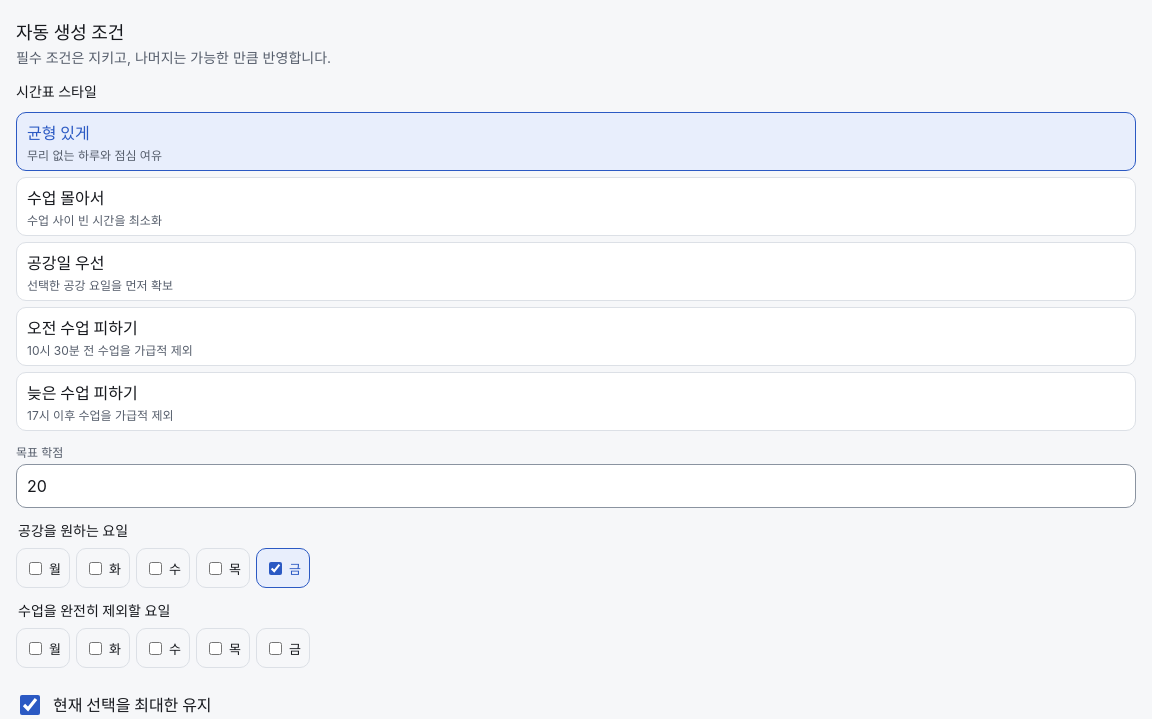
Test case: student-language preference presets › applies understandable presets without overwriting credits or preferred free days
Click the button "오전 수업 피하기 10시 30분 전 수업을 가급적 제외".
click(82, 328)  # box top-left (16, 307), bottom-right (1136, 366)
(page scrolled)
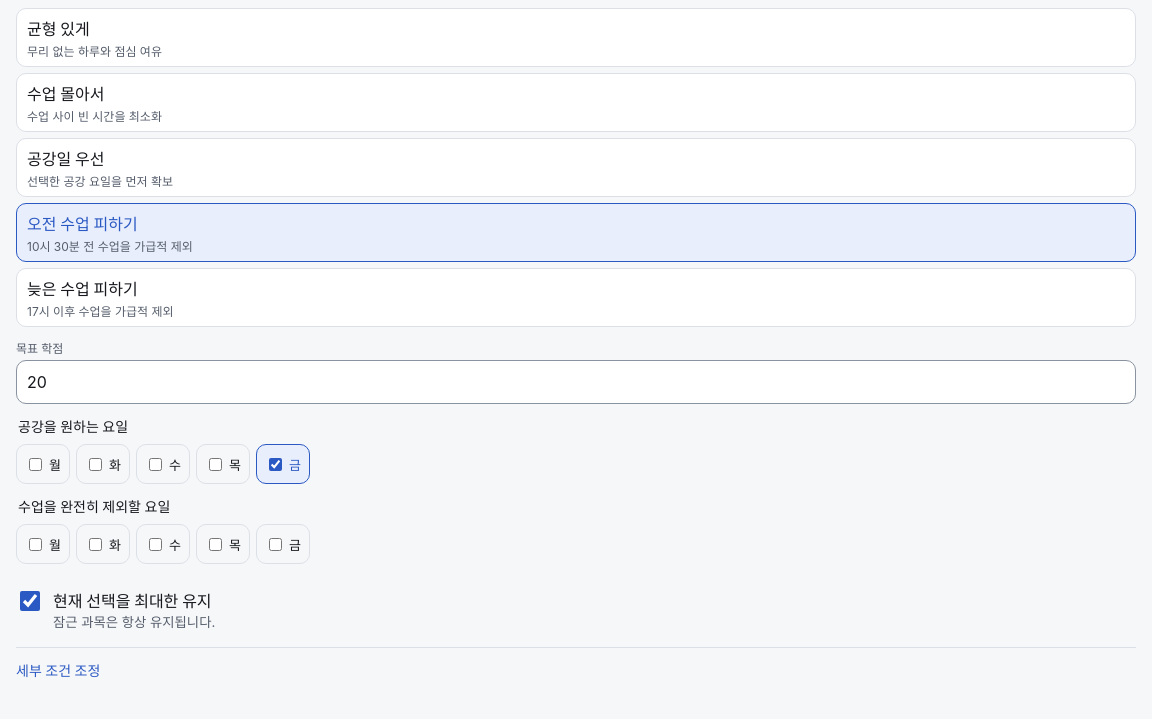
expect the number field labelled "목표 학점" holds "20": met, box top-left (16, 360), bottom-right (1136, 404)
expect the button "오전 수업 피하기 10시 30분 전 수업을 가급적 제외" is pressed: met, box top-left (16, 203), bottom-right (1136, 262)
Click the heading "세부 조건 조정".
click(58, 670)  # box top-left (16, 662), bottom-right (100, 679)
(page scrolled)
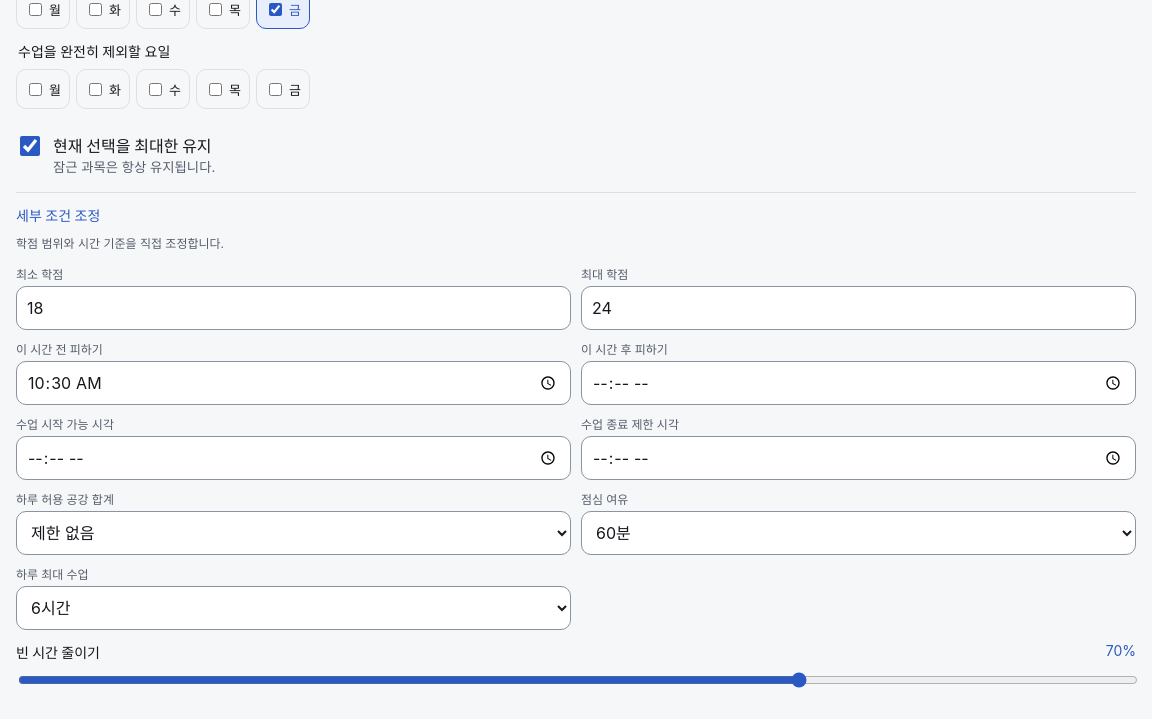
expect the time field labelled "이 시간 전 피하기" holds "10:30": met, box top-left (16, 361), bottom-right (571, 405)
expect the number field labelled "최소 학점" holds "18": met, box top-left (16, 286), bottom-right (571, 330)
expect the number field labelled "최대 학점" holds "24": met, box top-left (581, 286), bottom-right (1136, 330)
